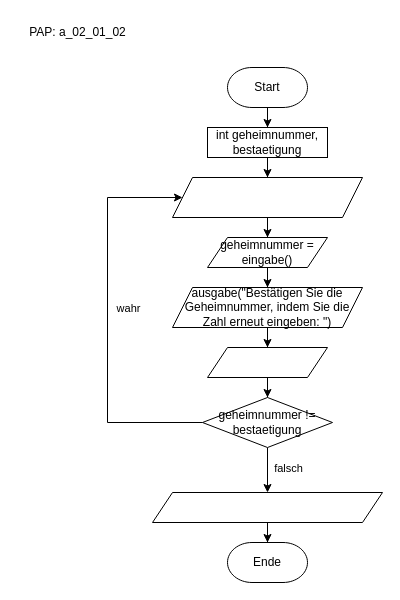
This 400x600 diagram has some shape labels left out. The centre of each missing label's shape, as x and y in pixels:
ausgabe("Das ist Ihre neue Geheimnummer: ", geheimnummer, "."): (267,507)
ausgabe("Geben Sie eine ganzzahlige Geheimnummer ein: "): (267,197)
bestaetigung = eingabe(): (267,362)
